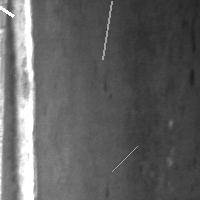scratches: (1, 1, 39, 199), (107, 141, 142, 176), (98, 0, 117, 64), (0, 0, 18, 21)
